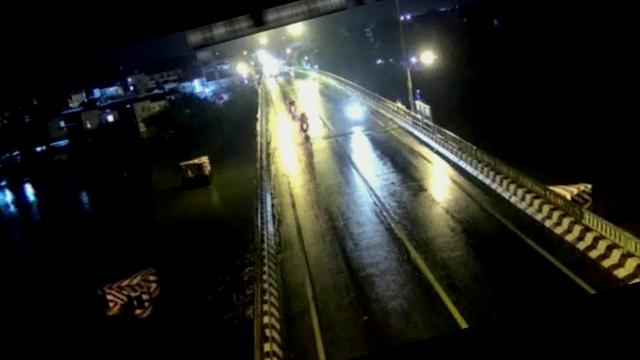Bike: (342, 93, 370, 126), (294, 107, 314, 135), (286, 99, 300, 116)
